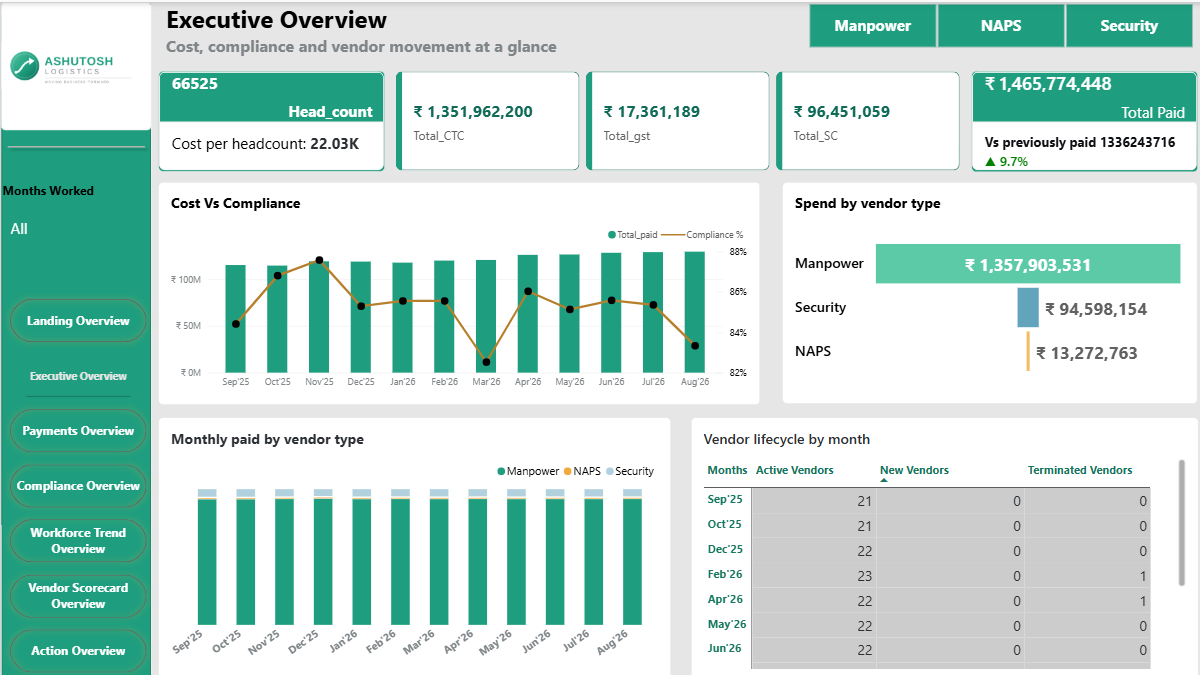

What the dashboard file says about the page in this screenshot:
{"tool":"powerbi","page":{"name":"Executive Overview","canvas":[1600,900],"ordinal":1},"visuals":[{"type":"shape","box":[0,0,200,900],"z":0},{"type":"textbox","box":[217.9,0,582.3,84.5],"z":1000},{"type":"cardVisual","fields":{"Data":["Page 1.Total_paid"]},"box":[1286.9,91,300.2,133.8],"z":2000},{"type":"slicer","title":"Months Worked","fields":{"Values":["public dim_date.month_name"]},"box":[1.8,238.1,199.6,84],"z":3000},{"type":"image","box":[0,0,199.6,169.8],"z":4000},{"type":"slicer","title":"Vendor Type","fields":{"Values":["public dim_vendor.vendor_type"]},"box":[1050.6,0,549.8,63],"z":5000},{"type":"cardVisual","fields":{"Data":["Page 1.Head_count"]},"box":[209.3,90.9,300,133],"z":6000},{"type":"shape","box":[0,183.8,200,15.4],"z":7000},{"type":"cardVisual","fields":{"Data":["Page 1.Total_CTC","Page 1.Total_gst","Page 1.Total_SC"]},"box":[523.5,91,751.2,133.1],"z":8000},{"type":"lineStackedColumnComboChart","title":"Cost Vs Compliance","fields":{"Category":["public dim_date.month_name"],"Y":["Page 1.Total_paid"],"Y2":["page 3.Compliance %"]},"box":[209.3,238.4,797.6,295],"z":9000},{"type":"funnel","title":"Spend by vendor type","fields":{"Category":["public dim_vendor.vendor_type"],"Y":["Page 1.Total_paid"]},"box":[1036.6,238.1,549.8,294.2],"z":10000},{"type":"hundredPercentStackedColumnChart","title":"Monthly paid by vendor  type","fields":{"Category":["public dim_date.month_name"],"Series":["public dim_vendor.vendor_type"],"Y":["Page 1.Total_paid"]},"box":[208.4,549.8,679.4,350.2],"z":11000},{"type":"pivotTable","title":"Vendor lifecycle by month","fields":{"Rows":["public dim_date.month_name"],"Values":["Page 1.Active Vendors","Page 1.New Vendors Final","Page 1.Terminated Vendors v2"]},"box":[914,549.8,672.4,350.2],"z":12000},{"type":"pageNavigator","box":[3.8,385.1,197.2,514.7],"z":13000}]}

Visuals, with their boxes on the page's 1600x900 design canvas (x1, y1, x2, y2). These are canvas units, not pixel positions in the 1200x675 screenshot, which may show the page scaled, cropped or inside an application window:
shape: locate(0, 0, 200, 900)
textbox: locate(218, 0, 800, 84)
cardVisual - Page 1.Total_paid: locate(1287, 91, 1587, 225)
"Months Worked" slicer: locate(2, 238, 201, 322)
image: locate(0, 0, 200, 170)
"Vendor Type" slicer: locate(1051, 0, 1600, 63)
cardVisual - Page 1.Head_count: locate(209, 91, 509, 224)
shape: locate(0, 184, 200, 199)
cardVisual - Page 1.Total_CTC x Page 1.Total_gst: locate(524, 91, 1275, 224)
"Cost Vs Compliance" lineStackedColumnComboChart: locate(209, 238, 1007, 533)
"Spend by vendor type" funnel: locate(1037, 238, 1586, 532)
"Monthly paid by vendor  type" hundredPercentStackedColumnChart: locate(208, 550, 888, 900)
"Vendor lifecycle by month" pivotTable: locate(914, 550, 1586, 900)
pageNavigator: locate(4, 385, 201, 900)
